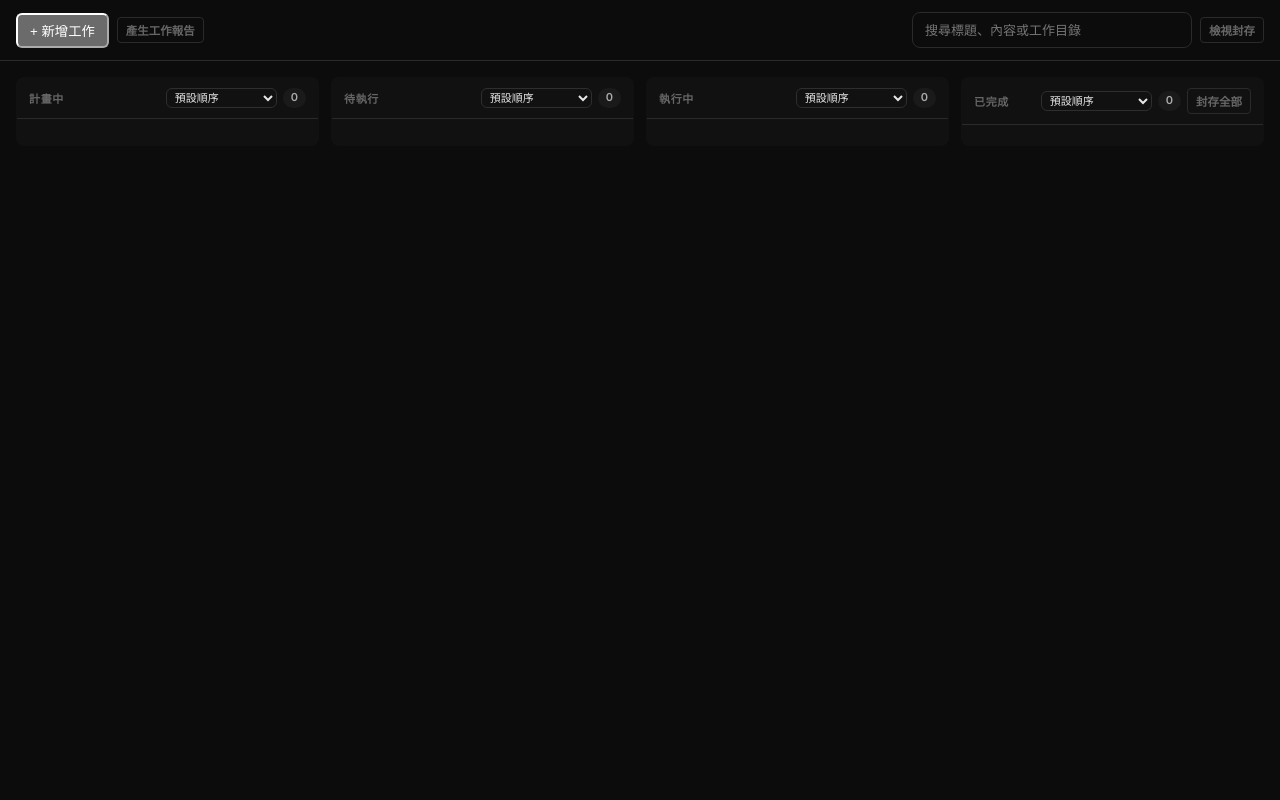
it: ProjectBoard › 封存 › 在封存視窗看對話記錄時，封存清單要留著
The image size is (1280, 800).
Click the button with test id "open-archive" at (1232, 30), box [1200,17,1264,43]
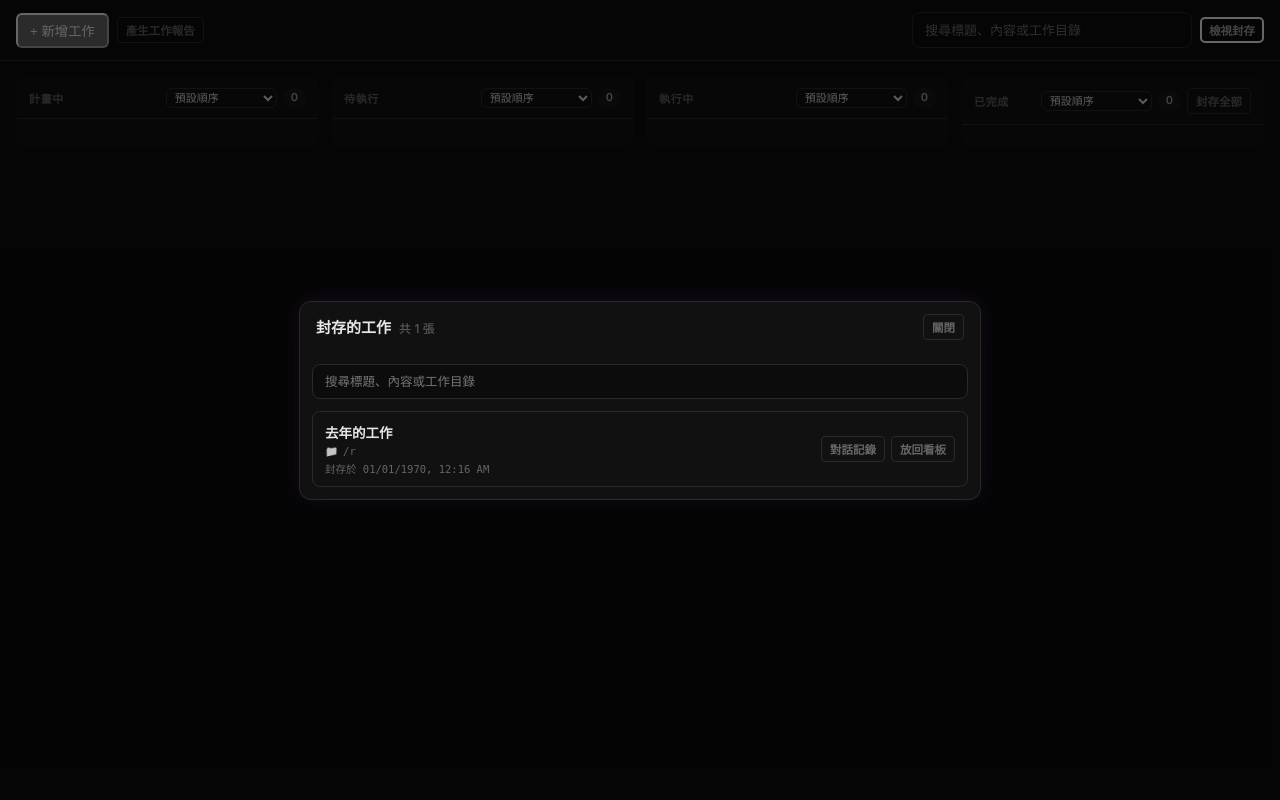
Click the button with test id "archive-transcript-a1" at (853, 448), box [821,436,885,462]
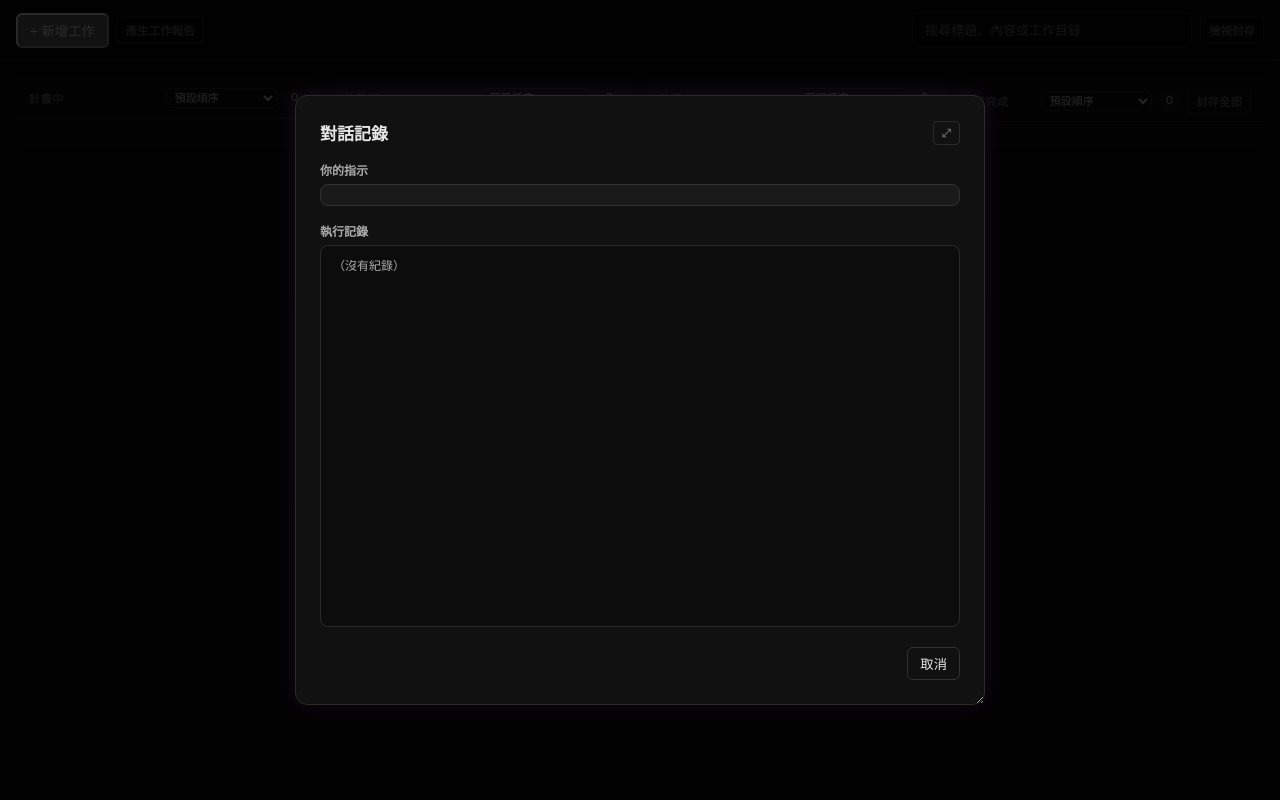
Now the text "（沒有紀錄）" is shown, box [320,245,960,627]
